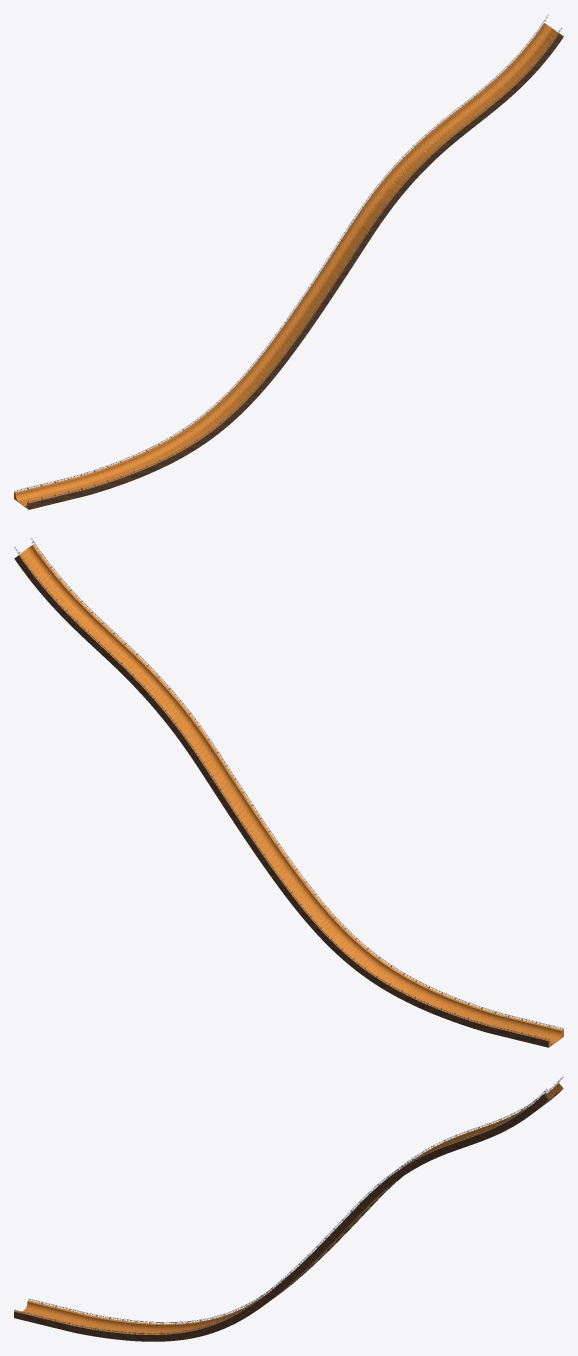
The picture shows the model from 3 angles, top to bottom: view 1: azimuth 30°, elevation 25°; view 2: azimuth 150°, elevation 25°; view 3: azimuth 330°, elevation 25°; orthographic projection.
Parts seen in each view (by area): view 1: polySurface57, polySurface5; view 2: polySurface57, polySurface5; view 3: polySurface57, polySurface5.
Boxes of the visible parts, <box> form: polySurface57: <box>14,23,563,509</box>; polySurface5: <box>14,14,562,502</box>; polySurface57: <box>14,544,563,1047</box>; polySurface5: <box>14,538,563,1040</box>; polySurface57: <box>14,1083,563,1341</box>; polySurface5: <box>14,1077,563,1334</box>.
Size of the model in its own units: 9.5 by 6.15 by 0.619.
3 materials, 3 textured.
